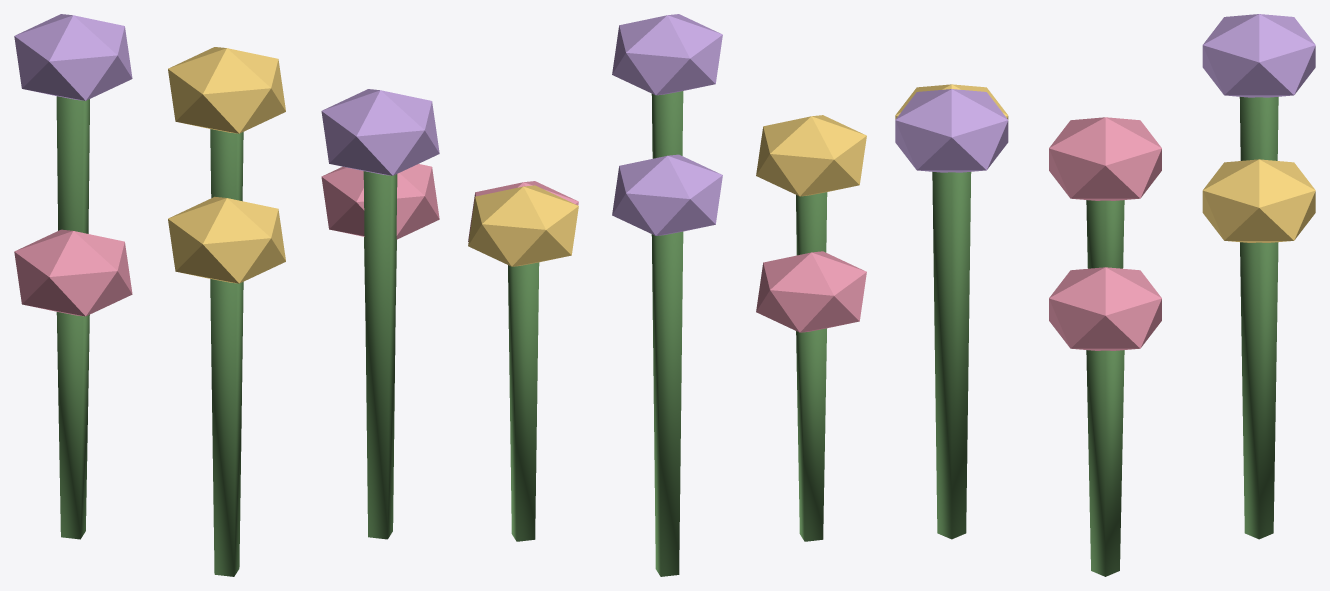
File: xy_nat_flowers.glb
3 renders of one model, left to right at view 1: azimuth 30°, elevation 25°; view 2: azimuth 150°, elevation 25°; view 3: azimuth 270°, elevation 25°, orthographic. The views are drawn at different scales.
Parts seen in each view (by area): view 1: xy_nat_flowers; view 2: xy_nat_flowers; view 3: xy_nat_flowers.
Part boxes in pixels (x1,y1,x2,y2): xy_nat_flowers: (14,14,439,576); xy_nat_flowers: (468,14,866,576); xy_nat_flowers: (895,14,1315,576).
Bounding box in the file's own units: 0.4273 × 0.442 × 0.3792.
